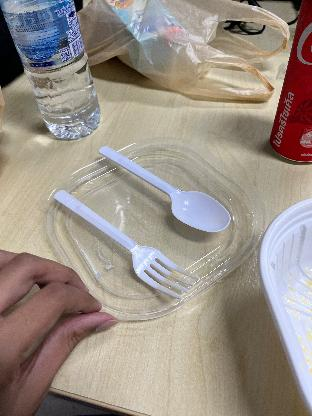Others: (46, 190, 204, 302), (95, 142, 236, 232)
Plastic Bottle: (0, 0, 104, 136)
